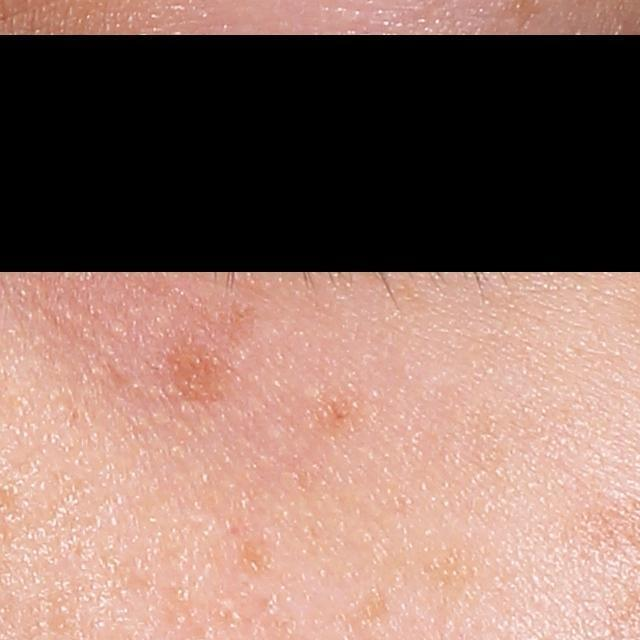melasma: (161, 334, 234, 406), (236, 522, 285, 587), (306, 376, 369, 424), (344, 584, 390, 620)
